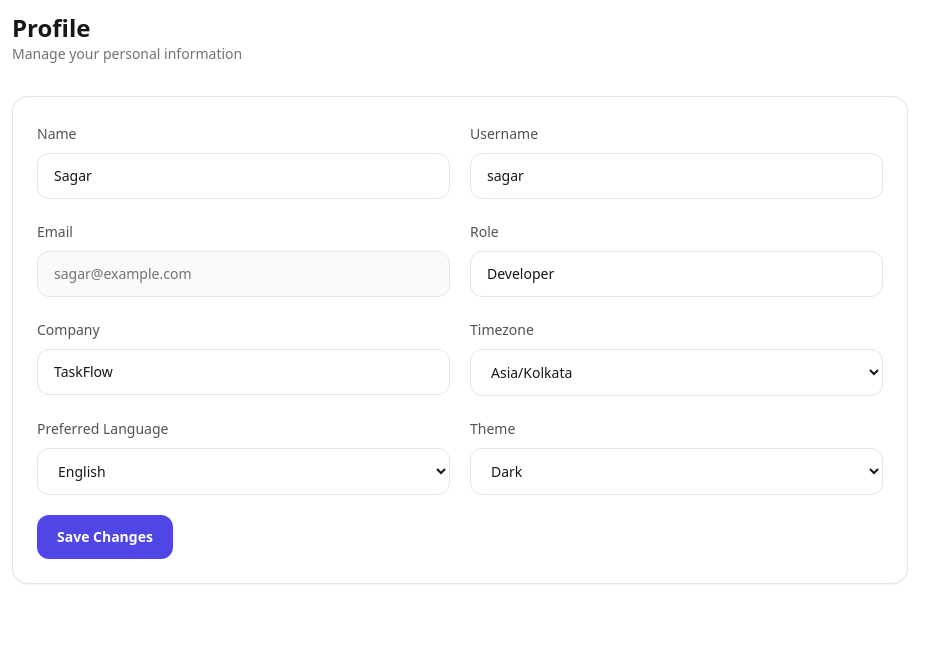
Test: Profile › shows a duplicate username error when the save fails for that reason
expect the field showing "Sagar" is shown: met, box [37, 153, 450, 199]
Click the button "Save Changes": (105, 537) [37, 515, 173, 559]
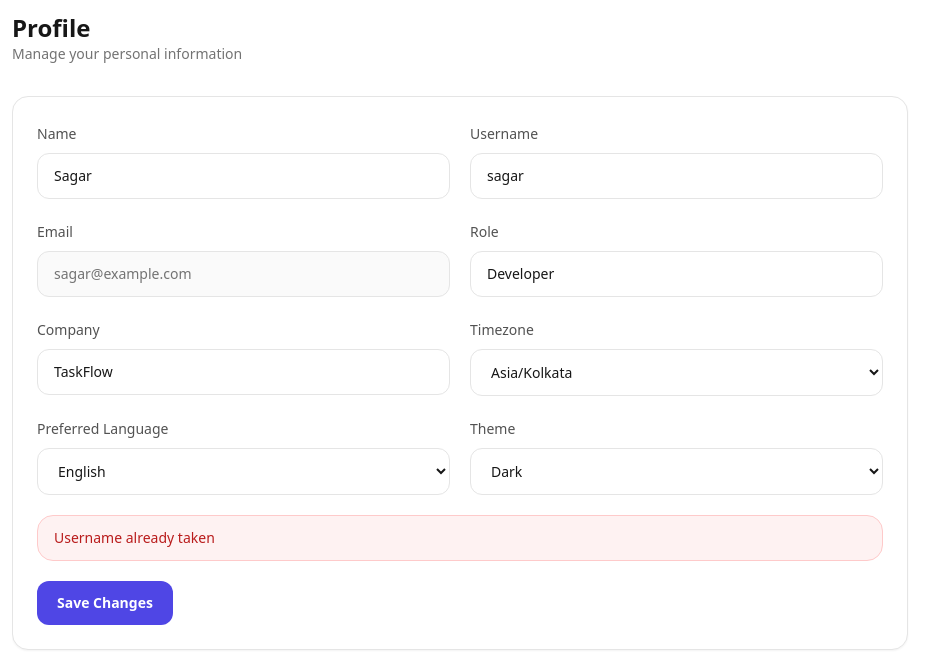
expect the text "Username already taken" is shown: met, box [37, 515, 883, 561]
